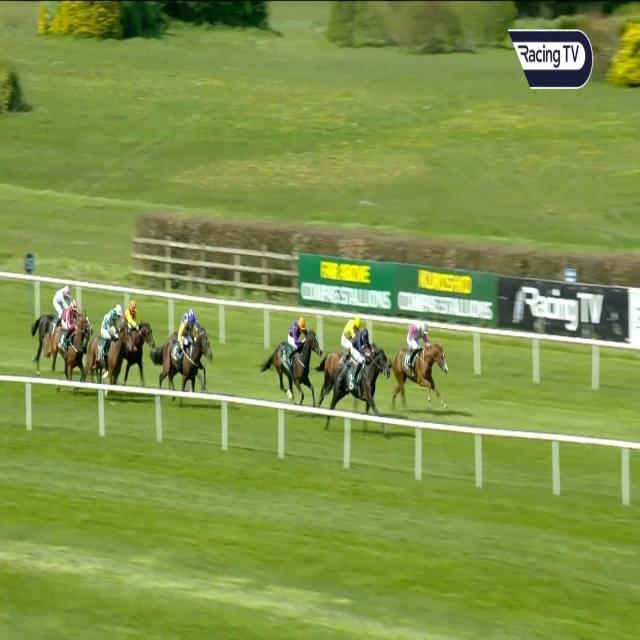horses-racing: (329, 329, 392, 423), (394, 323, 448, 415), (272, 318, 323, 405), (44, 301, 93, 376), (161, 321, 211, 388), (120, 302, 154, 383), (91, 305, 120, 394), (37, 284, 72, 344), (335, 315, 364, 353), (180, 310, 205, 334)
